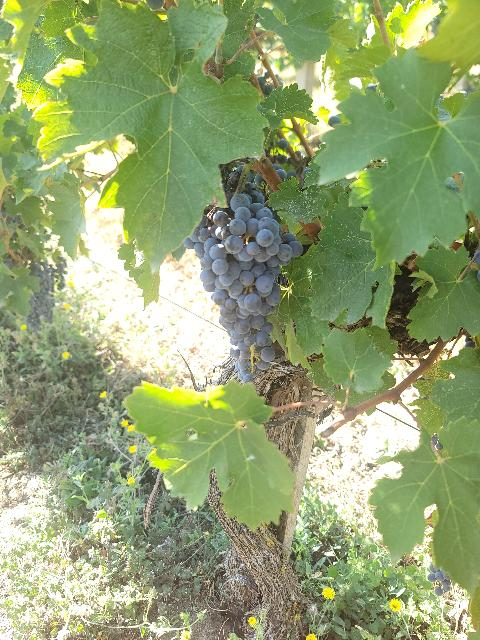grapes: (184, 192, 302, 382)
